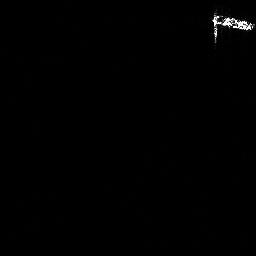ship: (210, 9, 256, 45)
